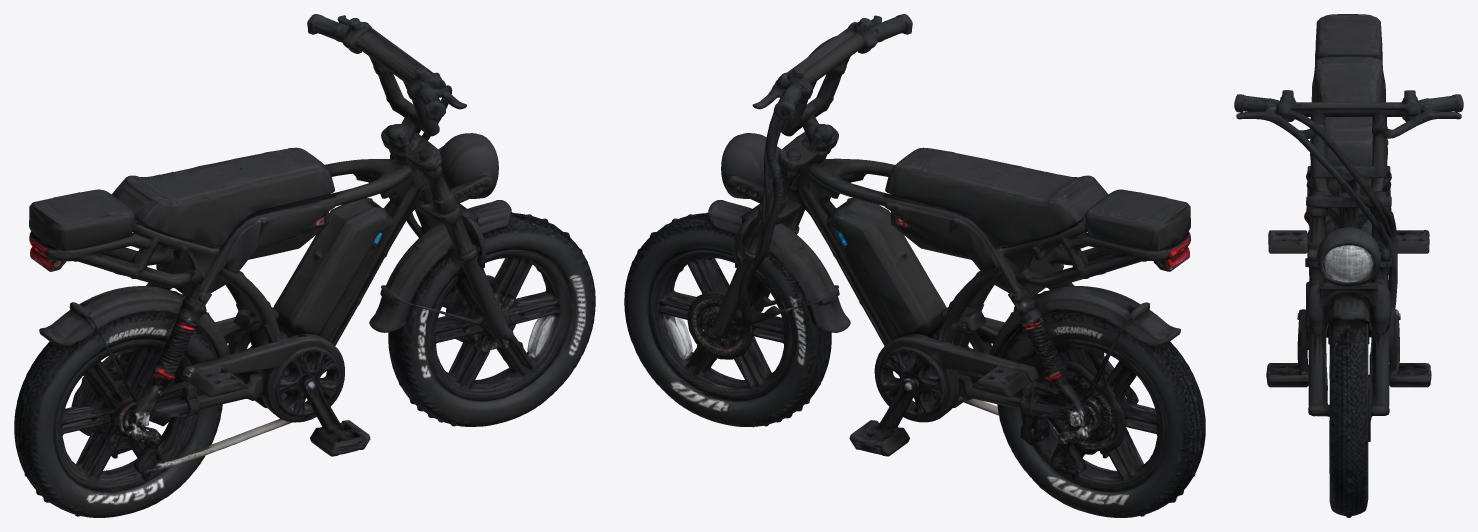
The model's file is retro-preta.glb.
3 renders of one model, left to right at view 1: azimuth 30°, elevation 25°; view 2: azimuth 150°, elevation 25°; view 3: azimuth 270°, elevation 25°, orthographic. The views are drawn at different scales.
Parts seen in each view (by area): view 1: node_0; view 2: node_0; view 3: node_0.
Boxes of the visible parts, x1,y1,x2,y2 form: node_0: (14, 14, 595, 517); node_0: (624, 14, 1205, 517); node_0: (1234, 14, 1463, 517).
Bounding box in the file's own units: 1.11 × 0.7431 × 0.4188.
Materials: 1 (1 with a texture image).
